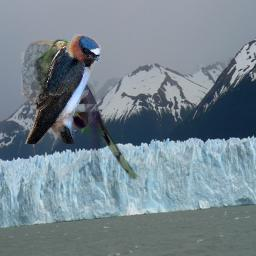Cuckoo: (34, 39, 144, 182)
Swallow: (21, 34, 101, 144)
